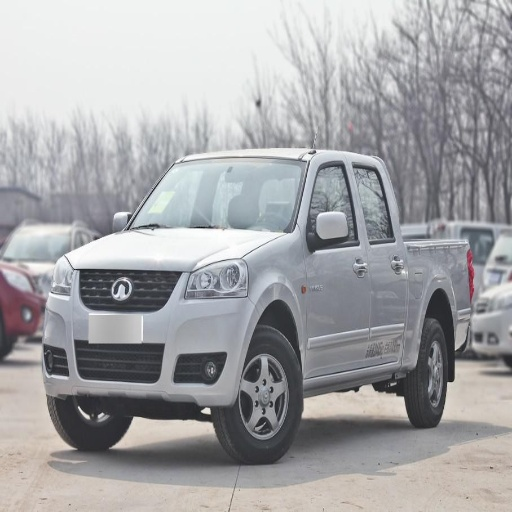back_left_door: (351, 160, 409, 362)
front_bumper: (40, 267, 257, 401)
front_glass: (125, 160, 306, 230)
front_left_door: (306, 158, 373, 375)
trunk: (414, 229, 481, 352)
